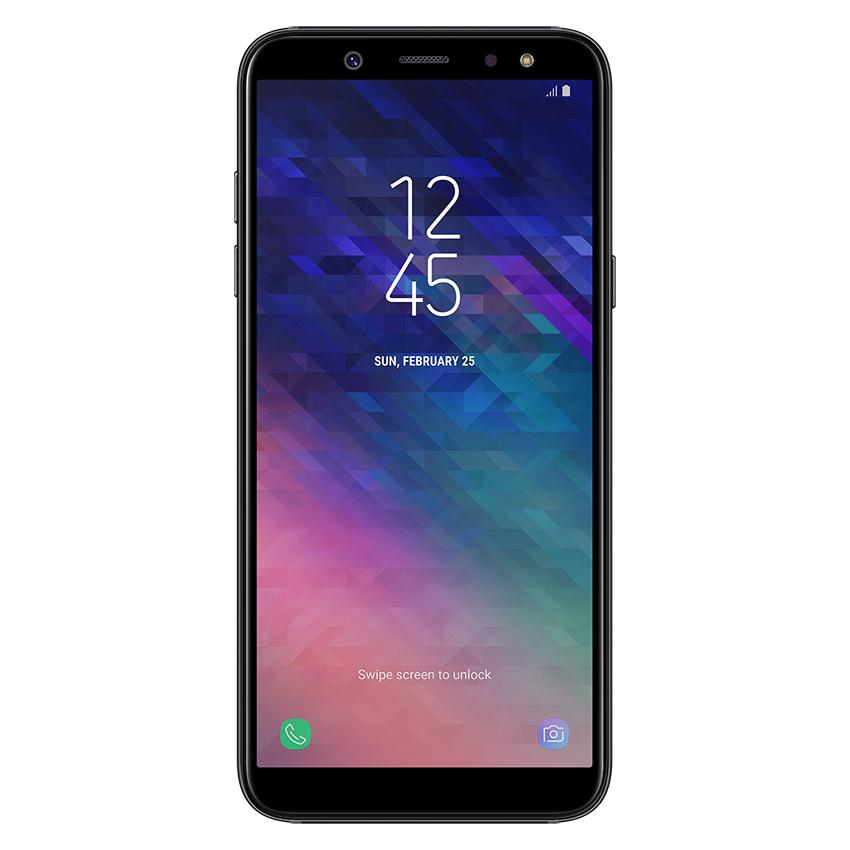Handphone: (227, 19, 622, 831)
